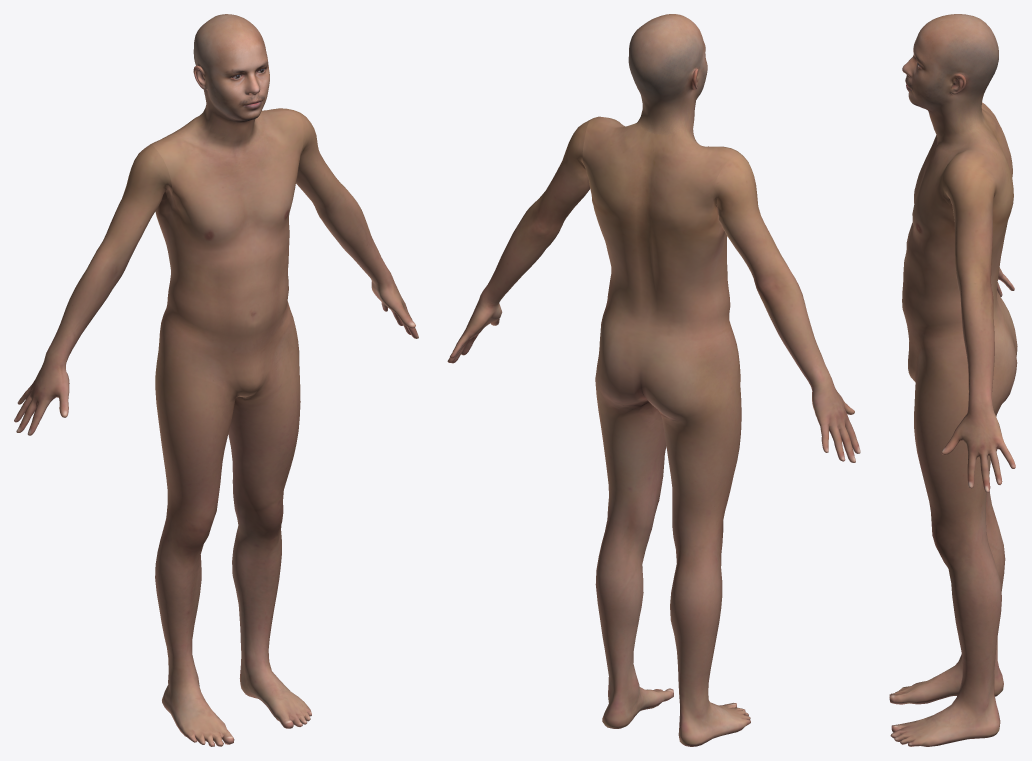
Rendered from avatar.fbx.
3 renders of one model, left to right at view 1: azimuth 30°, elevation 25°; view 2: azimuth 150°, elevation 25°; view 3: azimuth 270°, elevation 25°, orthographic. The views are drawn at different scales.
Parts seen in each view (by area): view 1: mesh; view 2: mesh; view 3: mesh.
Boxes of the visible parts, x1,y1,x2,y2 form: mesh: (14, 14, 418, 746); mesh: (447, 14, 860, 746); mesh: (889, 14, 1017, 746).
Size of the model in its own units: 108 by 180 by 29.73.
